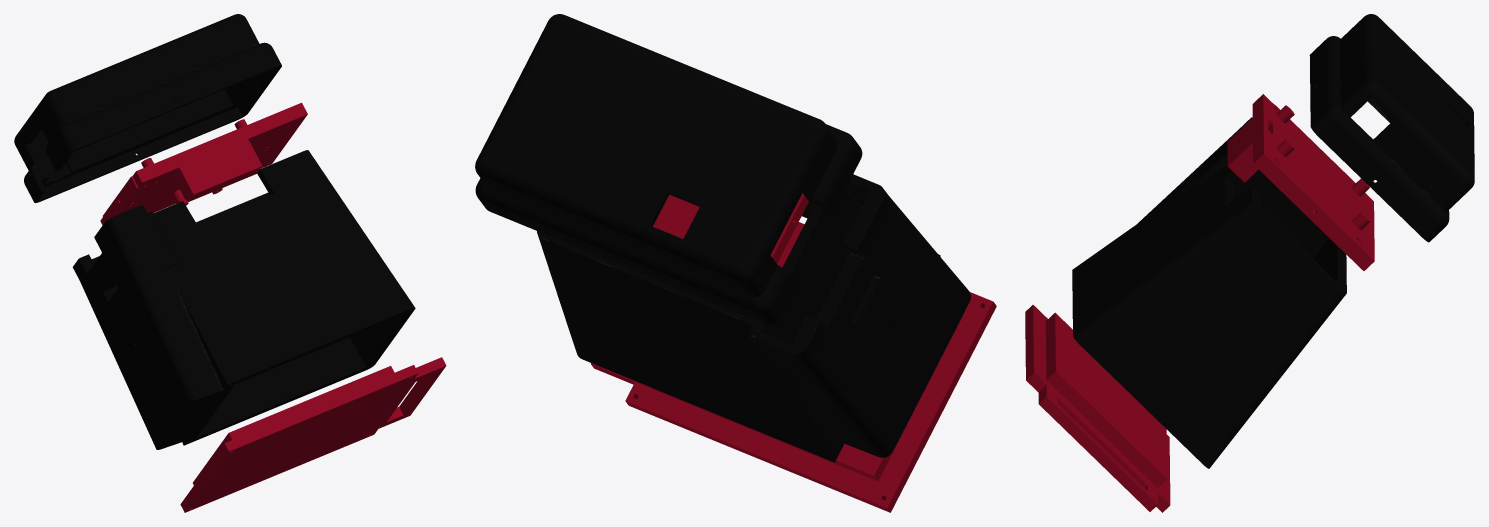
Rendered from Grain-detector-assembly.glb.
3 views of the same model, side by side, from view 1: azimuth 30°, elevation 25°; view 2: azimuth 150°, elevation 25°; view 3: azimuth 270°, elevation 25° (orthographic). The views are drawn at different scales.
Visible parts, largest first — view 1: node_id3, node_id41, node_id64, node_id48; view 2: node_id41, node_id3, node_id64, node_id48; view 3: node_id3, node_id41, node_id64, node_id48.
Boxes of the visible parts, x1,y1,x2,y2 form: node_id3: (72,150,415,449); node_id41: (14,14,281,202); node_id64: (180,357,446,512); node_id48: (100,102,307,225); node_id41: (475,14,862,324); node_id3: (537,174,970,462); node_id64: (591,222,996,512); node_id48: (653,193,808,263); node_id3: (1072,117,1346,468); node_id41: (1309,14,1474,242); node_id64: (1025,305,1170,512); node_id48: (1227,94,1374,270).
Size of the model in its own units: 0.6149 by 0.8573 by 0.7879.
4 materials, 4 textured.
